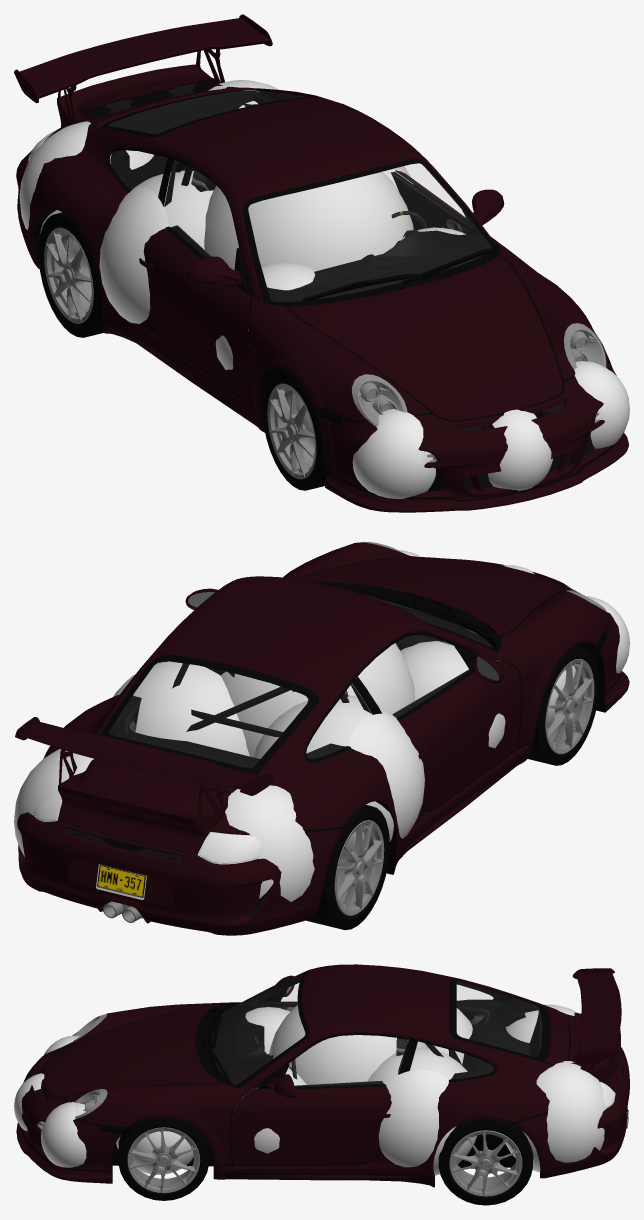
Rendered from Sportscar.glb.
3 views of the same model, one above another, from view 1: azimuth 30°, elevation 25°; view 2: azimuth 150°, elevation 25°; view 3: azimuth 270°, elevation 25° (orthographic). The views are drawn at different scales.
Parts seen in each view (by area): view 1: body, Sphere.003, door_front_right, Sphere.010, wheel_rear_right, wheel_front_right, Sphere.008, Sphere.011, door_front_left, Sphere.006, sphere.001, Sphere.007; view 2: body, door_front_right, Sphere.010, Sphere.005, wheel_rear_right, Sphere.006, wheel_front_right, Sphere.003, Sphere.007, Sphere.004, Sphere.008; view 3: body, door_front_left, Sphere.005, wheel_rear_left, Sphere.004, wheel_front_left, Sphere.003, sphere.001, Sphere.002, Sphere.007, Sphere.006, sphere (+3 smaller).
Boxes of the visible parts, x1,y1,x2,y2 form: body: [14, 14, 628, 512]; Sphere.003: [204, 171, 413, 270]; door_front_right: [139, 225, 251, 404]; Sphere.010: [99, 170, 213, 323]; wheel_rear_right: [38, 212, 103, 337]; wheel_front_right: [262, 370, 327, 490]; Sphere.008: [352, 409, 435, 498]; Sphere.011: [487, 409, 553, 490]; door_front_left: [390, 170, 504, 241]; Sphere.006: [19, 121, 153, 270]; sphere.001: [574, 361, 629, 448]; Sphere.007: [215, 262, 317, 382]; body: [15, 542, 629, 935]; door_front_right: [392, 646, 521, 809]; Sphere.010: [253, 695, 424, 863]; Sphere.005: [113, 661, 249, 756]; wheel_rear_right: [306, 804, 389, 929]; Sphere.006: [225, 785, 314, 901]; wheel_front_right: [528, 645, 599, 765]; Sphere.003: [221, 643, 414, 757]; Sphere.007: [400, 641, 505, 747]; Sphere.004: [14, 749, 93, 856]; Sphere.008: [585, 596, 629, 673]; body: [16, 964, 629, 1187]; door_front_left: [231, 1064, 391, 1164]; Sphere.005: [367, 1047, 476, 1175]; wheel_rear_left: [438, 1118, 533, 1205]; Sphere.004: [505, 1061, 606, 1174]; wheel_front_left: [118, 1116, 209, 1200]; Sphere.003: [269, 1005, 428, 1084]; sphere.001: [41, 1102, 86, 1167]; Sphere.002: [116, 1131, 193, 1174]; Sphere.007: [245, 1007, 290, 1054]; Sphere.006: [506, 1004, 577, 1042]; sphere: [231, 1067, 306, 1153].
Size of what is drawn, in the model's own units: 2.41 by 1.61 by 5.47.
9 materials, 3 textured.
